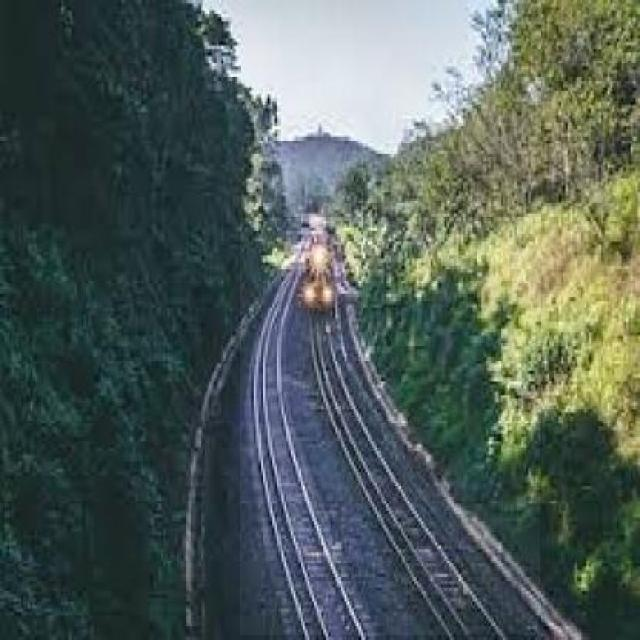rail: (242, 219, 541, 636)
